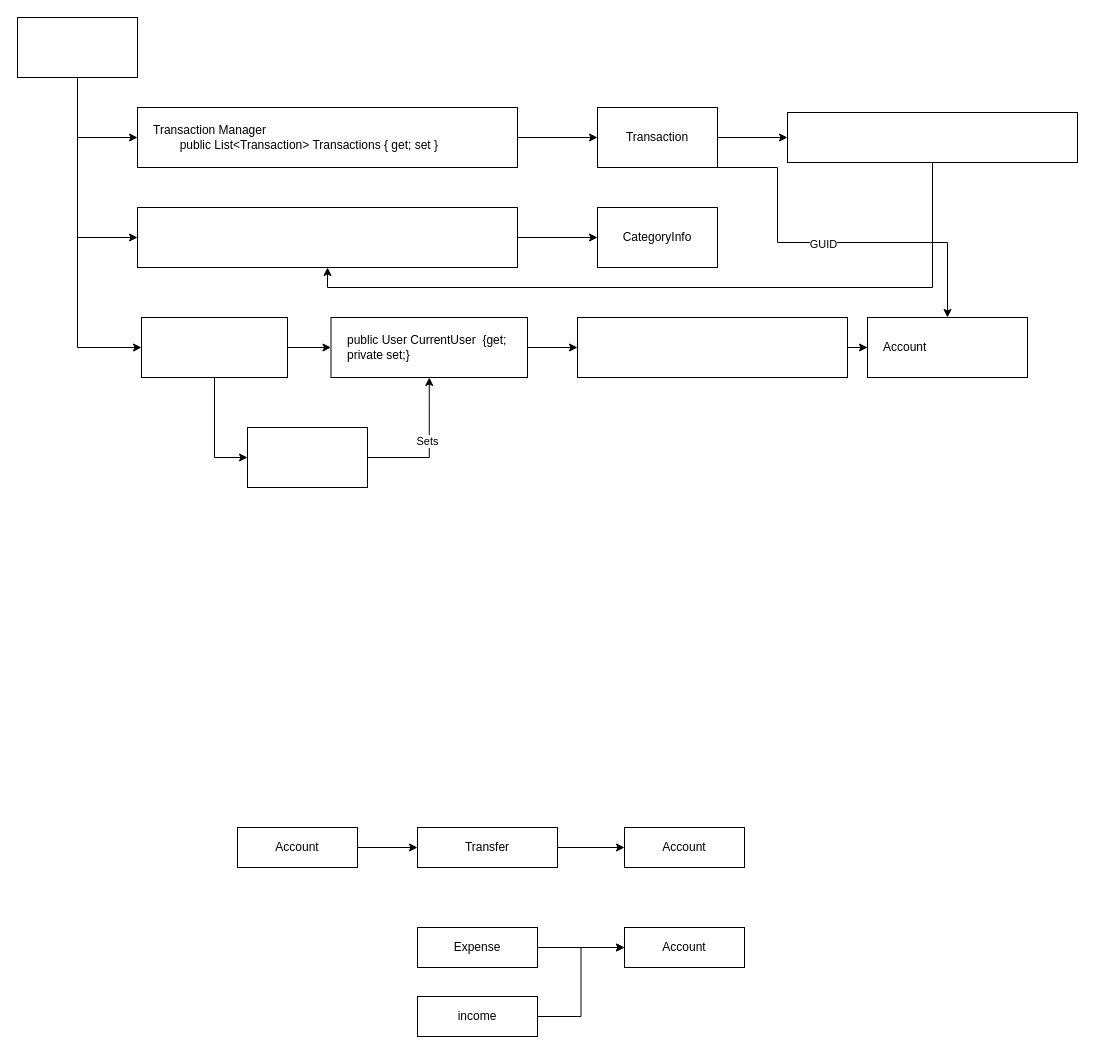
Some shapes in this 1095 by 1054 pixel diagram are drawn without their labels. Each missing label, with the centre of its shape:
Login: the point at 307,457
public Dictionary<string,CategoryInfo> Categories { get; set; }: the point at 327,237
public List<Account> Accounts { get; set }: the point at 712,347
System: the point at 77,47
Transaction { public string Category { get; set; } }: the point at 932,137
UserManager: the point at 214,347
